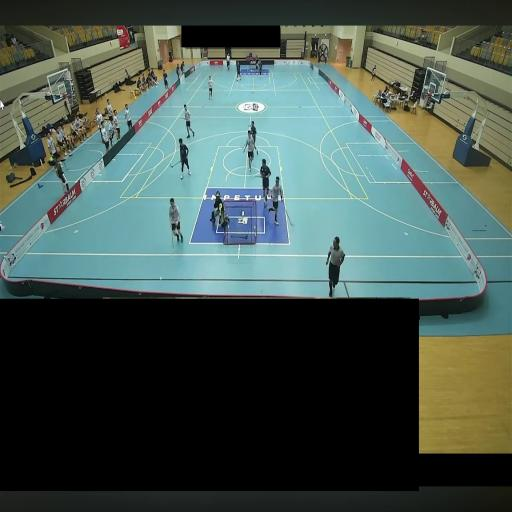Goalkeeper: (210, 191, 225, 225), (255, 56, 259, 72)
Player: (269, 176, 284, 225), (169, 198, 183, 242), (260, 159, 271, 207), (243, 131, 255, 172), (179, 139, 191, 178), (183, 104, 194, 137), (250, 121, 257, 145), (236, 61, 241, 81), (209, 76, 213, 99), (259, 61, 262, 76)
Referee: (326, 237, 345, 297), (227, 53, 230, 69)
ball: (160, 276, 162, 280)
